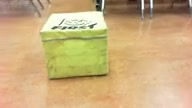cube: (39, 11, 108, 80)
